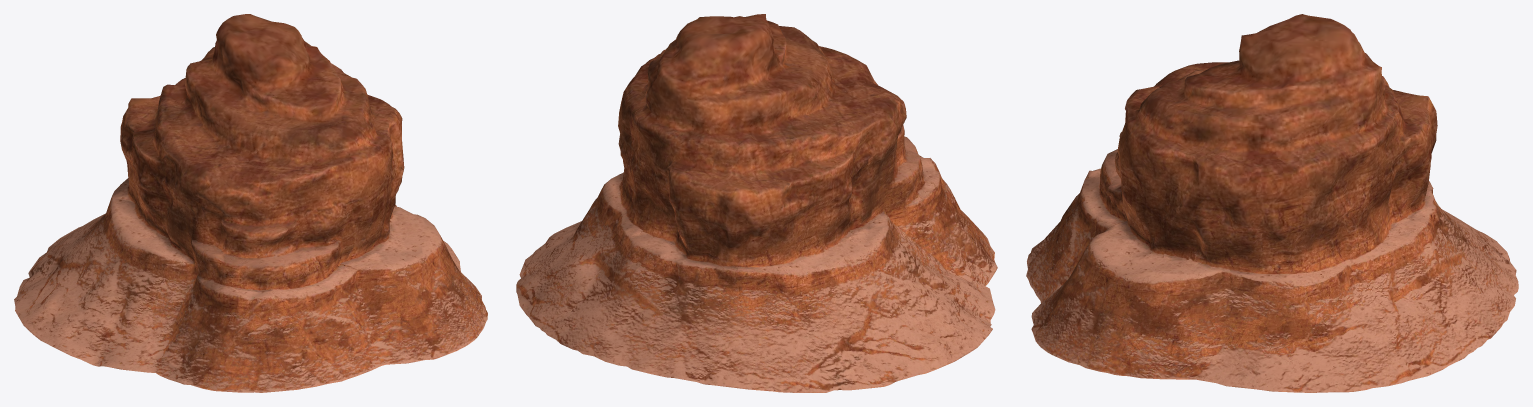
The model's file is desert-cliff.glb.
3 views of the same model, side by side, from view 1: azimuth 30°, elevation 25°; view 2: azimuth 150°, elevation 25°; view 3: azimuth 270°, elevation 25° (orthographic). The views are drawn at different scales.
Visible parts, largest first — view 1: P6DesertCliff-High_P6DesertCliffM_0; view 2: P6DesertCliff-High_P6DesertCliffM_0; view 3: P6DesertCliff-High_P6DesertCliffM_0.
Part boxes in pixels (<box>): P6DesertCliff-High_P6DesertCliffM_0: <box>14,14,487,392</box>; P6DesertCliff-High_P6DesertCliffM_0: <box>516,14,997,392</box>; P6DesertCliff-High_P6DesertCliffM_0: <box>1026,14,1518,392</box>.
Bounding box in the file's own units: 1.63 × 0.9999 × 1.59.
Materials: 1 (1 with a texture image).
